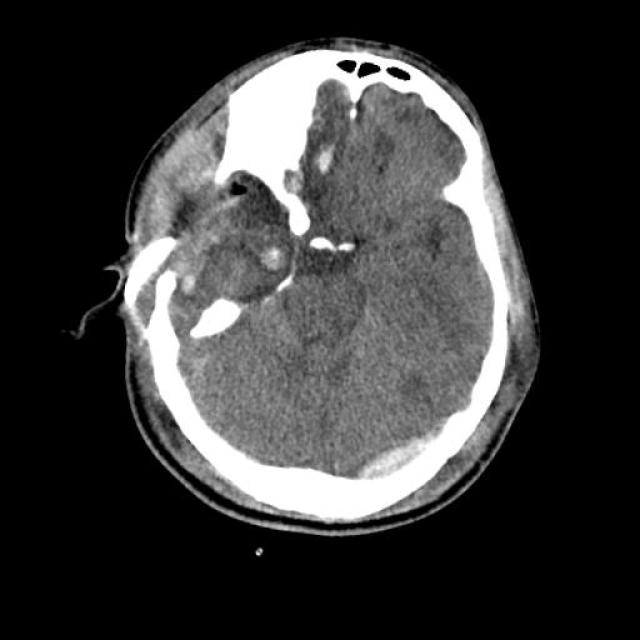Subdural: (336, 384, 486, 516)
